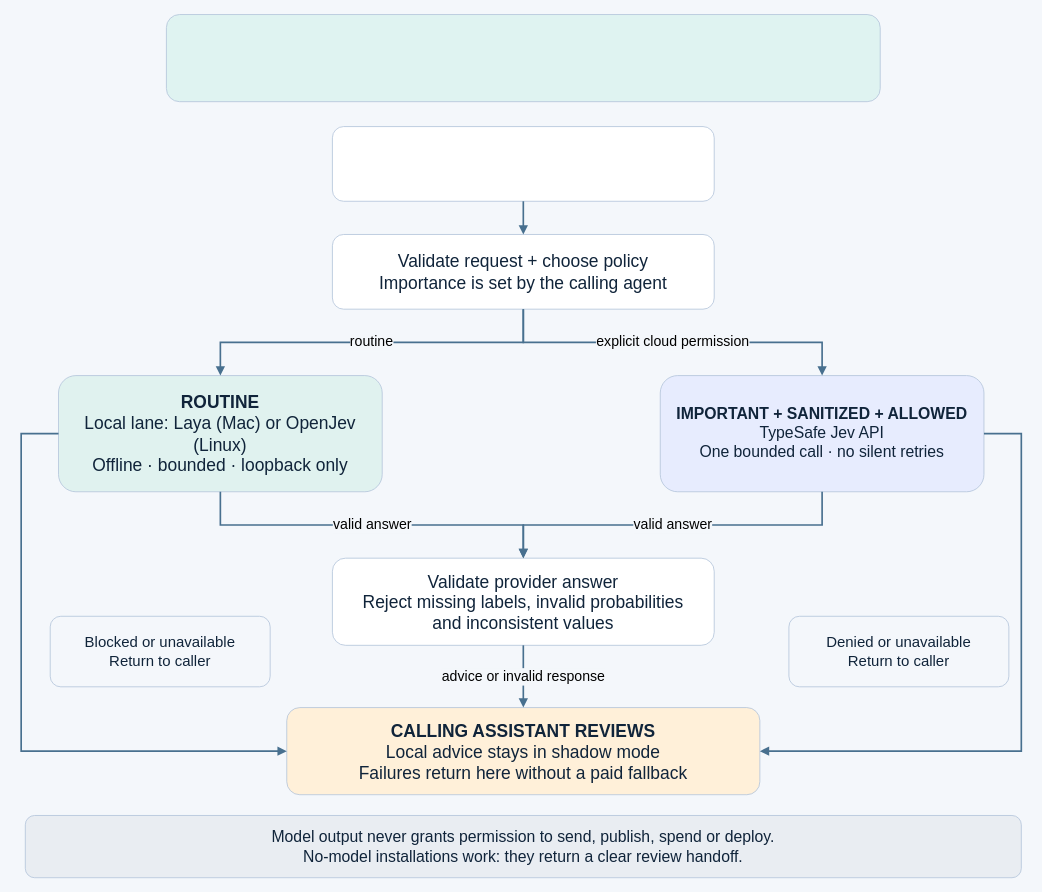
This 1042x892 diagram has some shape labels left out. The box of each missing label's shape, as (x1, y1, x2, y2) in pixels:
Claude Code · Codex · Hermes / Jax Shared skill + command: (332, 126, 714, 201)
JEV RELAY Small decisions. Clear fallbacks. You keep control.: (166, 14, 880, 102)
